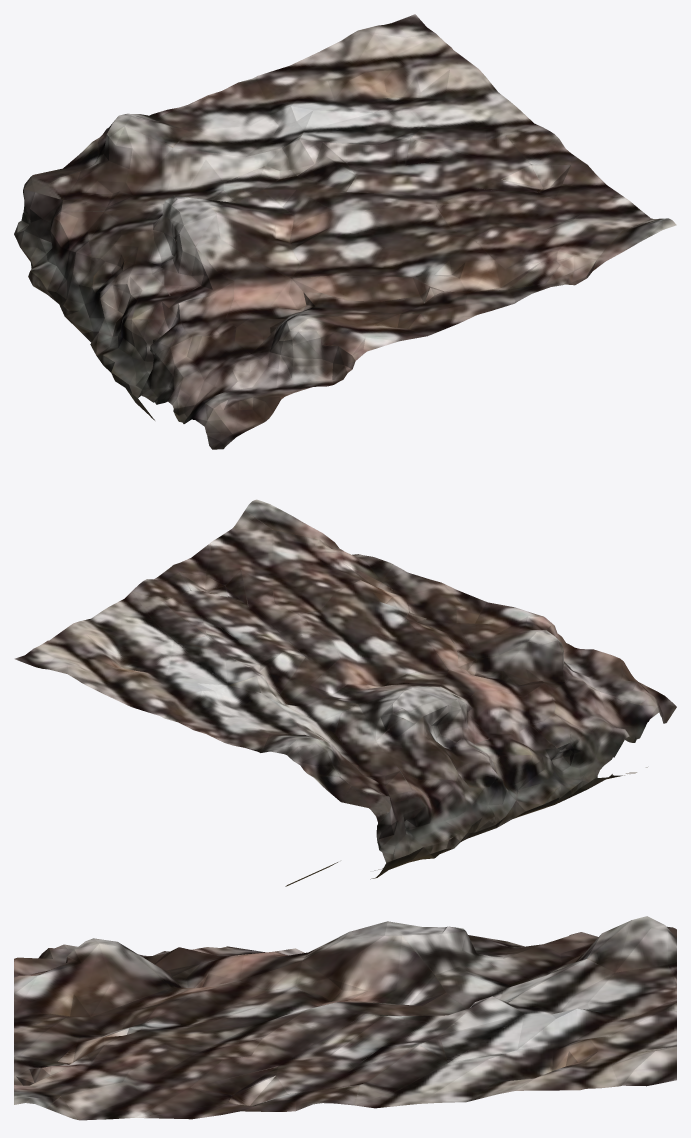
3 views of the same model, one above another, from view 1: azimuth 30°, elevation 25°; view 2: azimuth 150°, elevation 25°; view 3: azimuth 270°, elevation 25° (orthographic). The views are drawn at different scales.
Size of the model in its own units: 1.67 by 0.6208 by 1.67.
3 materials, 3 textured.
